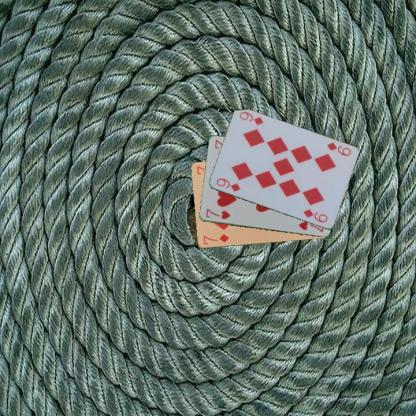7d: (201, 232, 230, 246)
7h: (203, 206, 232, 220)
9d: (324, 140, 352, 158), (213, 176, 242, 193)
